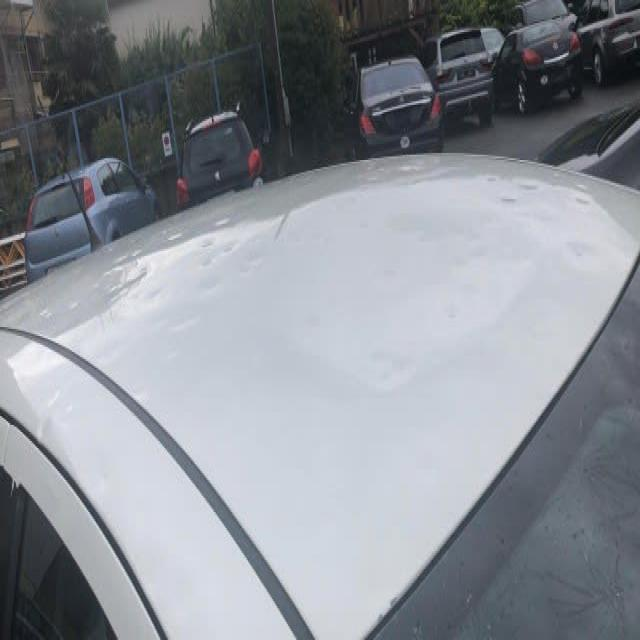roof-dent: (264, 176, 623, 619), (0, 242, 283, 612)
